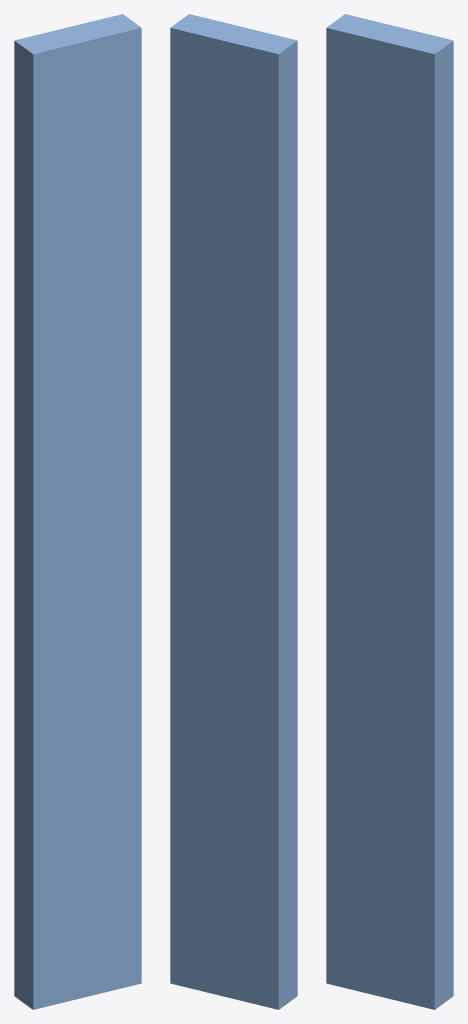
Rendered from wallconnector.fbx.
3 renders of one model, left to right at view 1: azimuth 30°, elevation 25°; view 2: azimuth 150°, elevation 25°; view 3: azimuth 330°, elevation 25°, orthographic.
Visible parts, largest first — view 1: wallconnector_low; view 2: wallconnector_low; view 3: wallconnector_low.
Part boxes in pixels (x1=…): wallconnector_low: x1=14, y1=14, x2=141, y2=1009; wallconnector_low: x1=170, y1=14, x2=297, y2=1009; wallconnector_low: x1=326, y1=14, x2=453, y2=1009.
Size of the model in its own units: 0.1188 by 1 by 0.0358.
